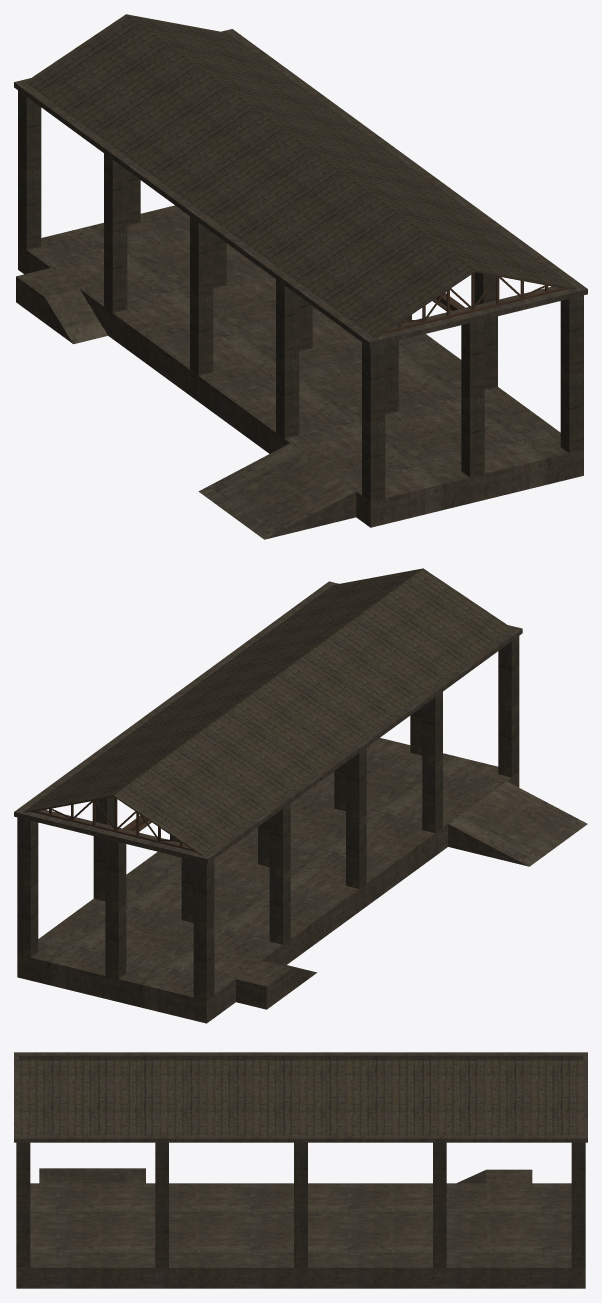
The model's file is warehouse_mx_4_1.obj.
The picture shows the model from 3 angles, top to bottom: view 1: azimuth 30°, elevation 25°; view 2: azimuth 150°, elevation 25°; view 3: azimuth 270°, elevation 25°; orthographic projection. The views are drawn at different scales.
Parts seen in each view (by area): view 1: warehouse_mx_4_1; view 2: warehouse_mx_4_1; view 3: warehouse_mx_4_1.
Boxes of the visible parts, <box> form: warehouse_mx_4_1: <box>14,14,587,539</box>; warehouse_mx_4_1: <box>14,568,587,1023</box>; warehouse_mx_4_1: <box>14,1052,587,1288</box>.
Bounding box in the file's own units: 12.4 × 8.87 × 24.8.
